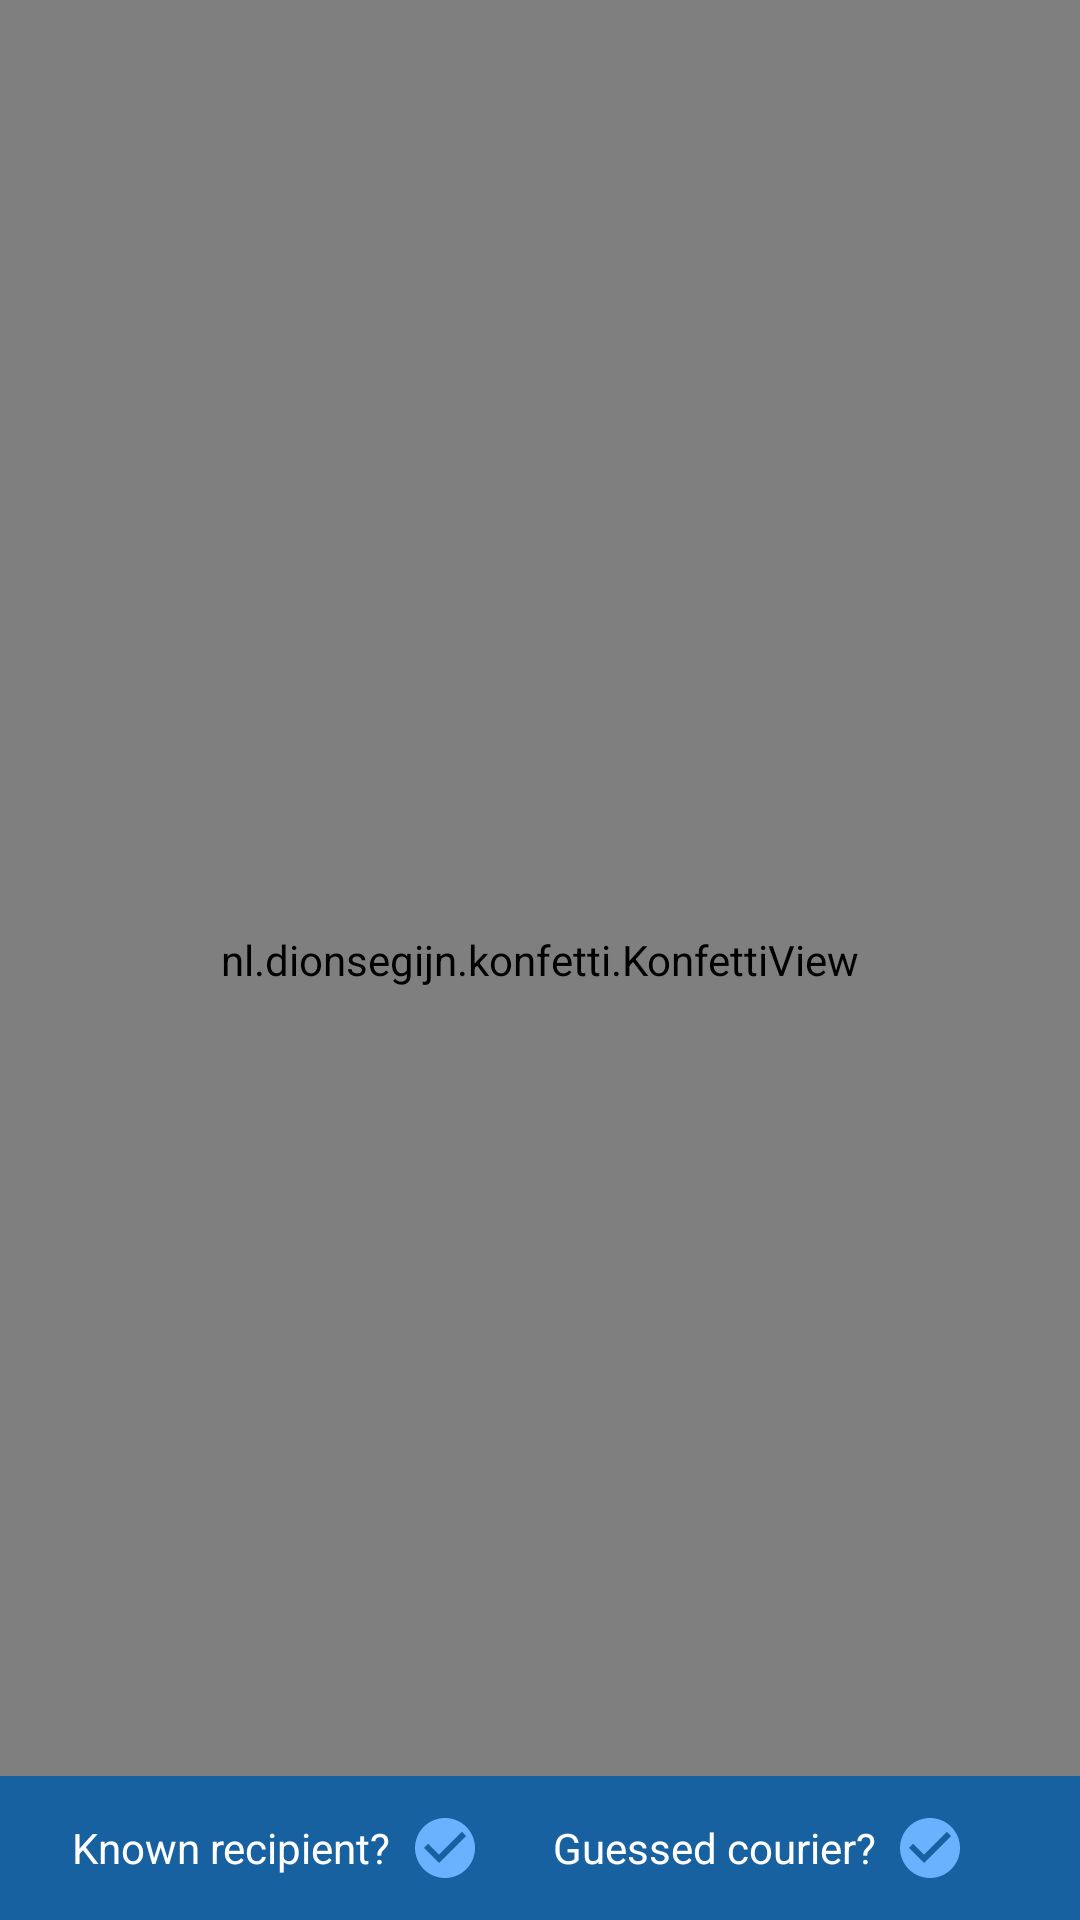

Icon click points for this 1080w x 1920h phone screenshot, format point (x, y):
check circle: point (445, 1848), point (930, 1848)
